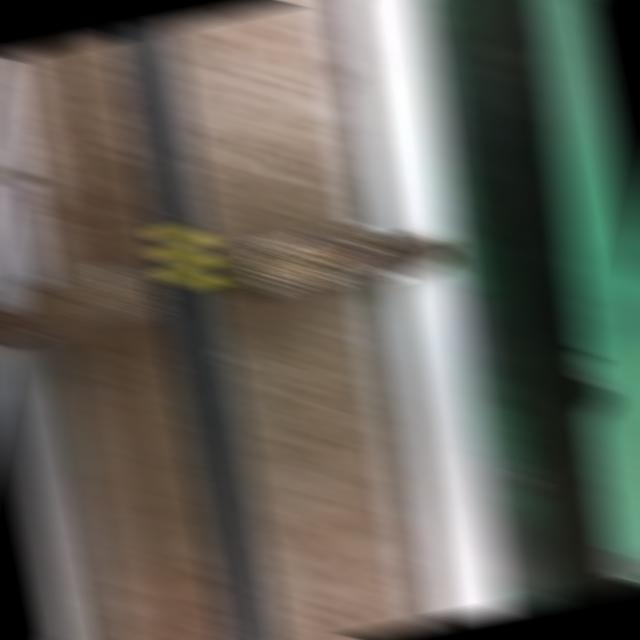yellow: (148, 226, 215, 292)
